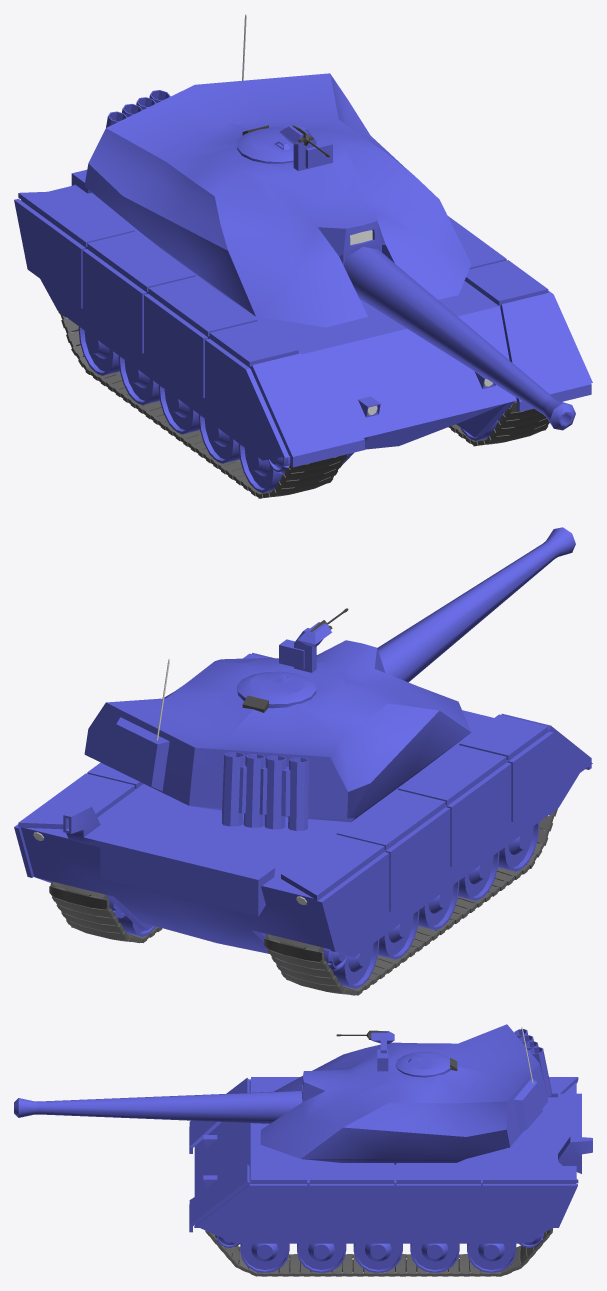
File: Tank.fbx
The picture shows the model from 3 angles, top to bottom: view 1: azimuth 30°, elevation 25°; view 2: azimuth 150°, elevation 25°; view 3: azimuth 270°, elevation 25°; orthographic projection. The views are drawn at different scales.
Visible parts, largest first — view 1: Cube.001, Cube.010, Cube, Cube.003, Cube.006, Cylinder.002, Cube.009, Cube.004, Cube.014; view 2: Cube.001, Cube.010, Cube, Cube.011, Cube.006, Cube.003, Cylinder.002, Cube.014, Cube.013, Cube.009, Cube.004; view 3: Cube.001, Cube.010, Cube, Cylinder.002, Cube.003, Cube.006, Cube.011, Cube.009, Cube.013, Cube.014, Cube.004.
Boxes of the visible parts, <box> form: Cube.001: <box>84,73,471,327</box>; Cube.010: <box>14,190,592,467</box>; Cube: <box>21,185,516,468</box>; Cube.003: <box>343,246,575,430</box>; Cube.006: <box>58,311,549,498</box>; Cylinder.002: <box>61,313,504,492</box>; Cube.009: <box>237,127,293,163</box>; Cube.004: <box>293,126,332,170</box>; Cube.014: <box>106,90,170,127</box>; Cube.001: <box>84,640,471,822</box>; Cube.010: <box>14,653,592,951</box>; Cube: <box>21,710,579,957</box>; Cube.011: <box>63,802,275,916</box>; Cube.006: <box>49,808,557,995</box>; Cube.003: <box>377,527,575,682</box>; Cylinder.002: <box>55,810,555,988</box>; Cube.014: <box>222,752,308,830</box>; Cube.013: <box>109,717,169,791</box>; Cube.009: <box>237,671,316,708</box>; Cube.004: <box>279,628,316,672</box>; Cube.001: <box>260,1024,548,1164</box>; Cube.010: <box>189,1077,578,1232</box>; Cube: <box>194,1081,576,1243</box>; Cylinder.002: <box>215,1233,543,1272</box>; Cube.003: <box>14,1090,302,1123</box>; Cube.006: <box>205,1228,552,1276</box>; Cube.011: <box>558,1093,592,1173</box>; Cube.009: <box>395,1051,450,1077</box>; Cube.013: <box>514,1079,542,1133</box>; Cube.014: <box>514,1029,551,1097</box>; Cube.004: <box>377,1036,388,1071</box>.
Bounding box in the file's own units: 333 × 317 × 767.
